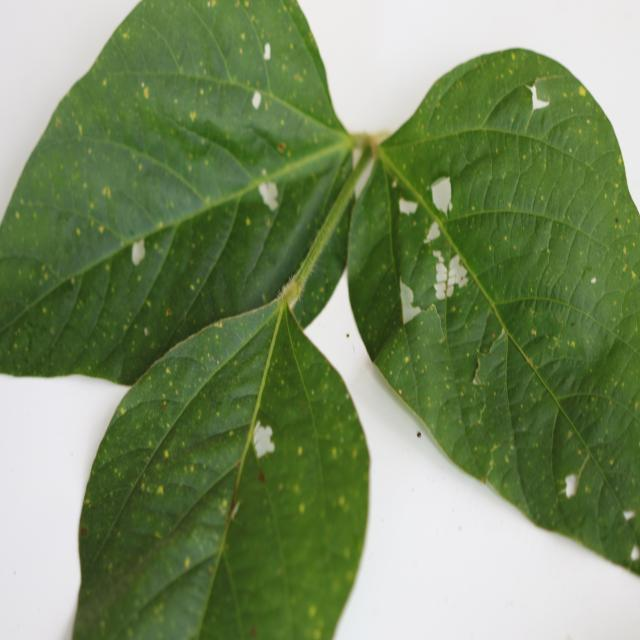Soybean: (0, 0, 640, 640)
downey_mildew: (5, 130, 337, 383), (424, 173, 628, 526), (100, 7, 278, 176), (367, 468, 518, 628), (163, 274, 302, 367), (386, 305, 457, 462), (134, 340, 237, 440), (272, 422, 348, 543), (406, 178, 470, 314), (558, 451, 637, 547), (302, 373, 360, 495), (124, 386, 195, 459), (412, 169, 467, 241), (594, 229, 640, 304), (380, 327, 426, 394), (432, 248, 469, 298), (474, 332, 505, 388), (531, 319, 569, 363), (353, 148, 377, 201), (427, 296, 449, 352), (563, 451, 592, 493), (252, 421, 276, 459), (430, 176, 453, 214), (399, 280, 419, 322), (622, 510, 640, 556), (527, 83, 550, 111), (259, 180, 279, 210), (131, 239, 146, 266), (398, 196, 417, 217), (424, 220, 441, 243), (564, 473, 579, 498), (476, 400, 489, 427), (449, 268, 463, 292), (448, 254, 460, 276), (434, 282, 448, 299), (435, 264, 448, 282), (251, 91, 262, 109), (496, 325, 507, 342), (230, 502, 240, 520), (623, 509, 636, 522), (472, 372, 483, 387), (526, 355, 537, 369), (263, 42, 271, 60), (458, 276, 469, 289), (207, 355, 219, 366), (308, 604, 317, 617), (634, 545, 640, 562), (102, 186, 111, 197), (298, 502, 306, 514), (142, 86, 149, 99), (277, 142, 286, 152), (189, 110, 196, 122), (156, 485, 164, 495), (579, 86, 587, 96), (313, 629, 321, 639), (338, 495, 345, 506), (331, 447, 338, 458), (293, 483, 300, 494), (221, 499, 228, 509), (352, 447, 358, 458), (184, 557, 190, 568), (297, 446, 303, 456), (216, 321, 223, 329), (78, 124, 83, 135), (143, 327, 149, 336), (163, 449, 169, 458), (55, 118, 61, 127), (166, 307, 172, 316), (623, 263, 628, 273), (391, 180, 397, 188), (98, 225, 104, 233), (120, 407, 126, 415), (123, 32, 129, 40), (261, 168, 267, 176), (245, 218, 251, 226), (623, 246, 628, 255), (531, 329, 537, 336), (15, 211, 20, 219), (618, 156, 623, 164), (76, 227, 81, 235), (199, 88, 204, 96), (240, 33, 245, 41), (636, 270, 640, 279), (591, 276, 596, 283), (404, 356, 409, 363), (570, 341, 575, 348), (166, 367, 171, 374), (102, 79, 107, 86), (190, 284, 195, 291), (345, 393, 349, 401), (71, 277, 75, 285), (141, 81, 145, 88), (207, 1, 211, 8), (615, 182, 619, 189), (169, 380, 173, 387), (148, 440, 152, 447), (398, 389, 402, 395), (88, 148, 92, 154), (452, 306, 456, 312), (547, 248, 550, 254)
